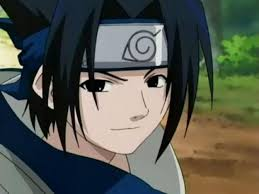sasuke: (20, 17, 177, 158)
